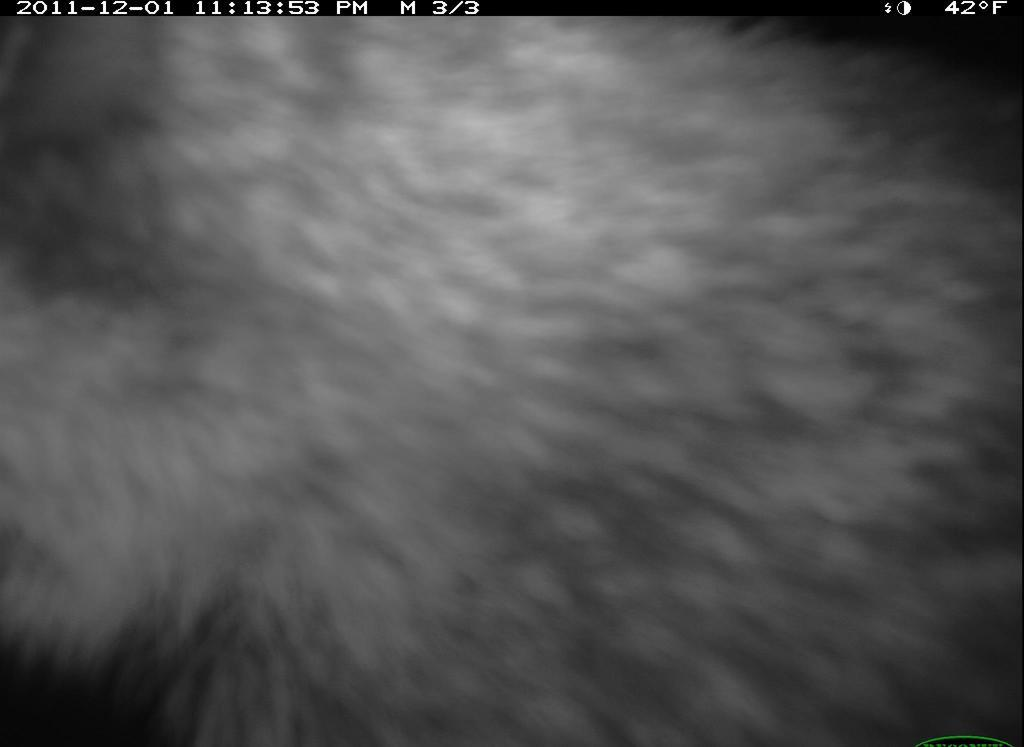raccoon: (6, 13, 1022, 740)
